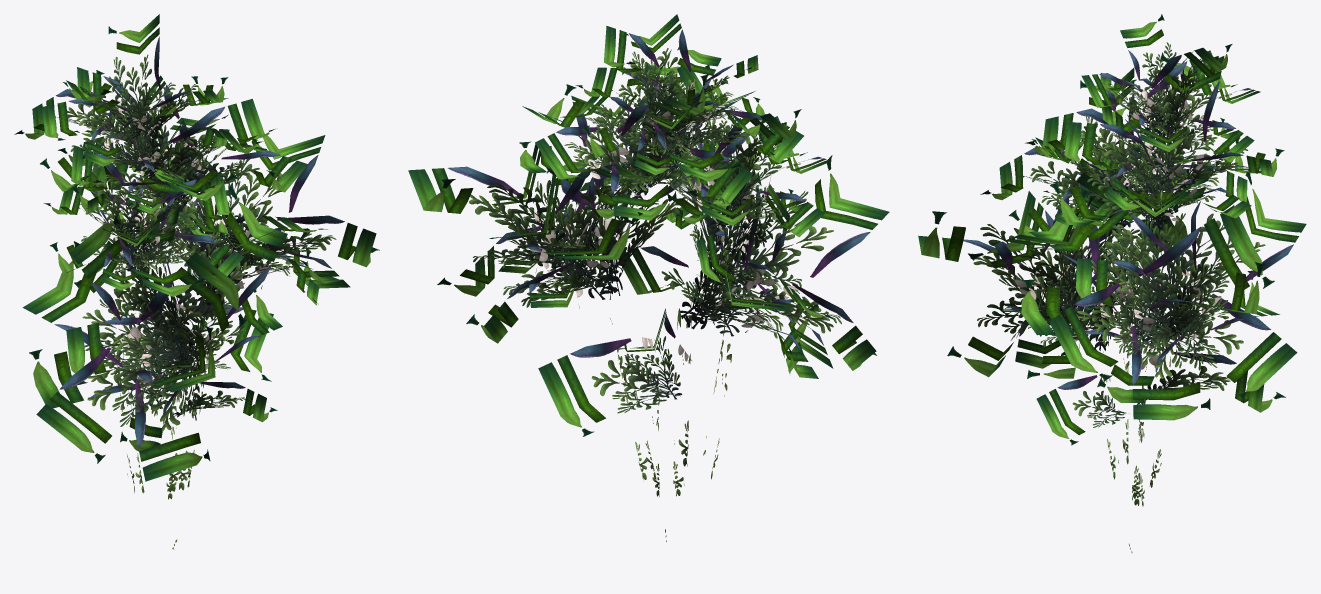
File: S_Tree_Green051_1.FBX
3 renders of one model, left to right at view 1: azimuth 30°, elevation 25°; view 2: azimuth 150°, elevation 25°; view 3: azimuth 270°, elevation 25°, orthographic. The views are drawn at different scales.
Parts seen in each view (by area): view 1: S_Tree_Green051_1; view 2: S_Tree_Green051_1; view 3: S_Tree_Green051_1.
Part boxes in pixels (x1=…): S_Tree_Green051_1: x1=14, y1=14, x2=379, y2=549; S_Tree_Green051_1: x1=408, y1=14, x2=889, y2=541; S_Tree_Green051_1: x1=918, y1=14, x2=1306, y2=552.
Size of the model in its own units: 809 by 731 by 1121.
